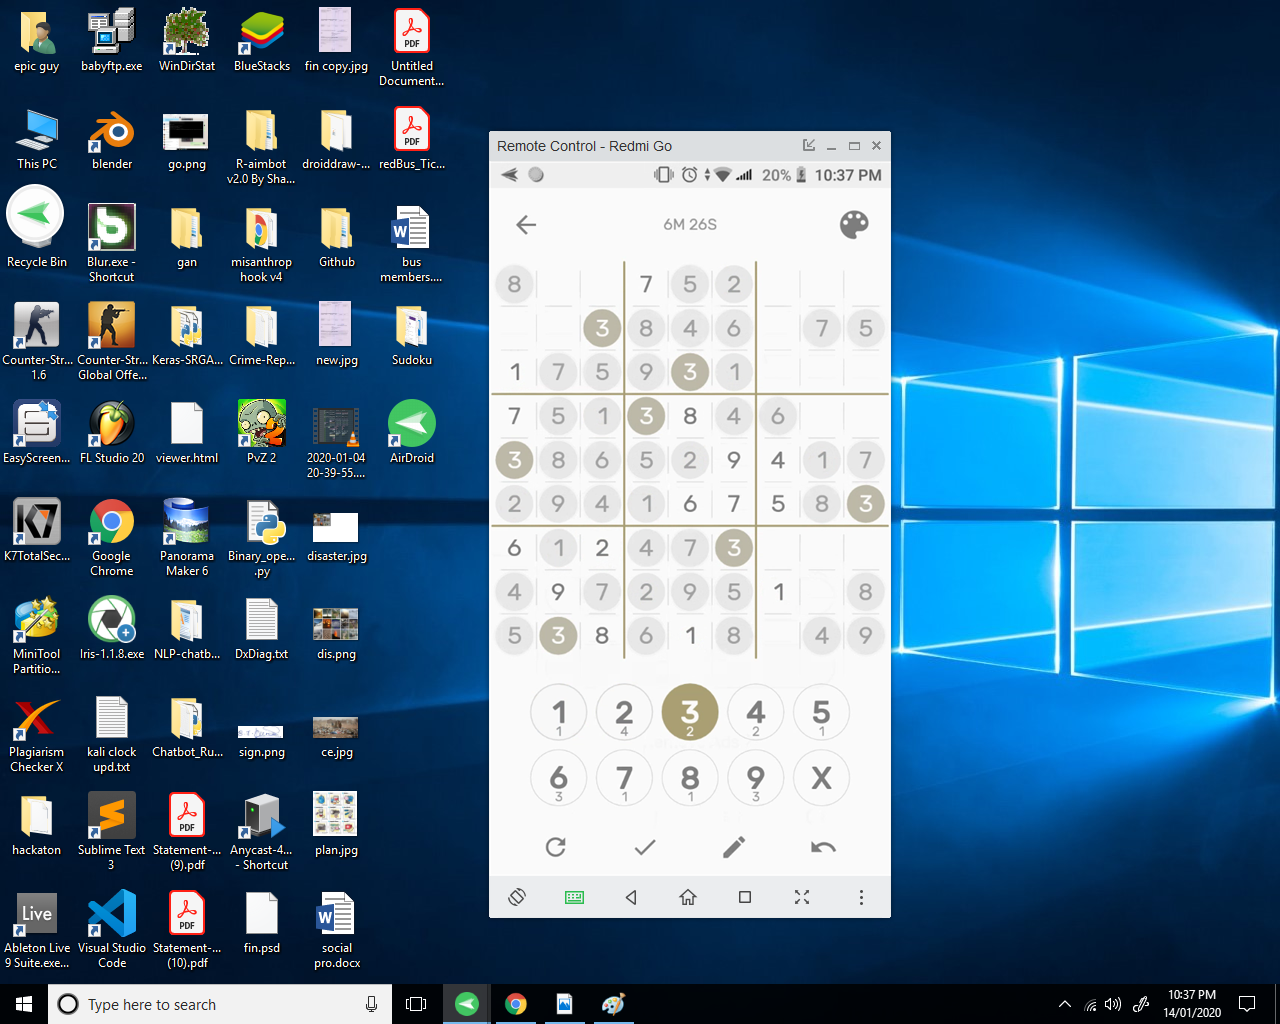1N: (796, 437, 846, 481), (537, 527, 584, 573), (623, 480, 670, 522), (711, 352, 758, 393)
2N: (709, 263, 758, 308), (489, 481, 537, 525), (623, 567, 668, 612), (670, 437, 709, 482), (583, 529, 624, 571)
3A: (841, 481, 892, 522), (489, 437, 538, 480), (707, 526, 757, 568), (579, 303, 624, 349), (666, 350, 712, 392), (626, 396, 669, 438), (537, 611, 579, 651)
4N: (797, 616, 844, 660), (709, 395, 757, 437), (494, 573, 539, 615), (581, 479, 624, 522), (757, 438, 796, 482)
5N: (707, 568, 760, 612), (844, 306, 890, 350), (668, 261, 711, 305), (581, 349, 624, 391), (536, 393, 579, 435)
6N: (490, 526, 538, 575), (579, 438, 624, 482), (670, 480, 709, 525)
7N: (709, 480, 757, 529), (537, 347, 582, 392), (846, 435, 888, 479)
8N: (841, 567, 890, 615), (622, 303, 669, 352), (490, 265, 540, 308), (709, 613, 758, 655)
9N: (722, 748, 792, 808), (844, 616, 890, 660), (669, 568, 709, 615)
X: (786, 746, 862, 807)
box: (488, 162, 891, 876)
